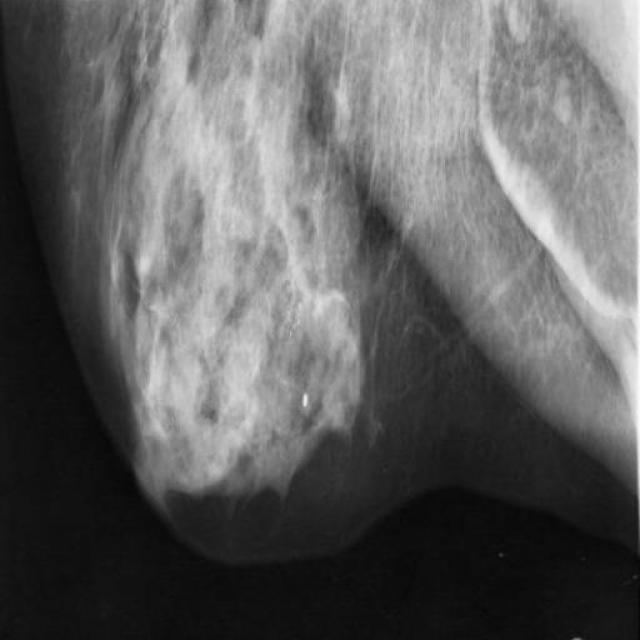cancer: (269, 249, 339, 359)
